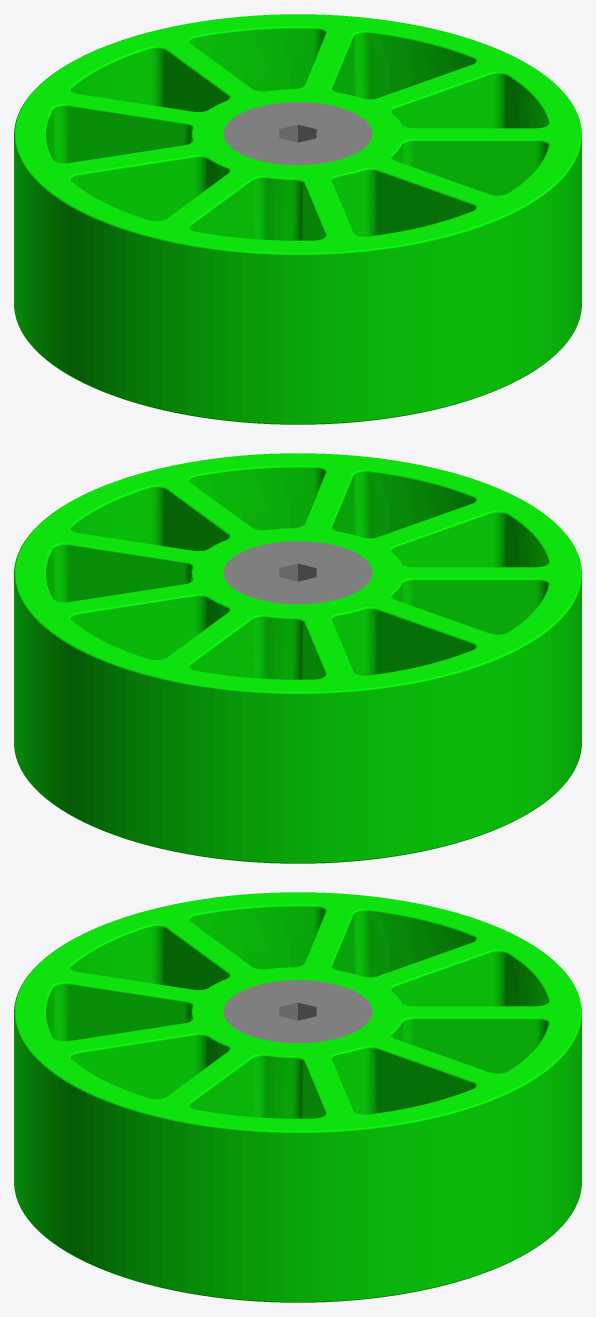
Rendered from model_web.glb.
3 renders of one model, top to bottom at view 1: azimuth 30°, elevation 25°; view 2: azimuth 150°, elevation 25°; view 3: azimuth 270°, elevation 25°, orthographic.
Parts seen in each view (by area): view 1: Node1, Node2; view 2: Node1, Node2; view 3: Node1, Node2.
Part boxes in pixels (<box>): Node1: <box>14,14,581,424</box>; Node2: <box>223,102,372,165</box>; Node1: <box>14,453,581,863</box>; Node2: <box>223,541,372,604</box>; Node1: <box>14,892,581,1302</box>; Node2: <box>223,980,372,1043</box>.
Bounding box in the file's own units: 76.2 × 25.4 × 76.18.
